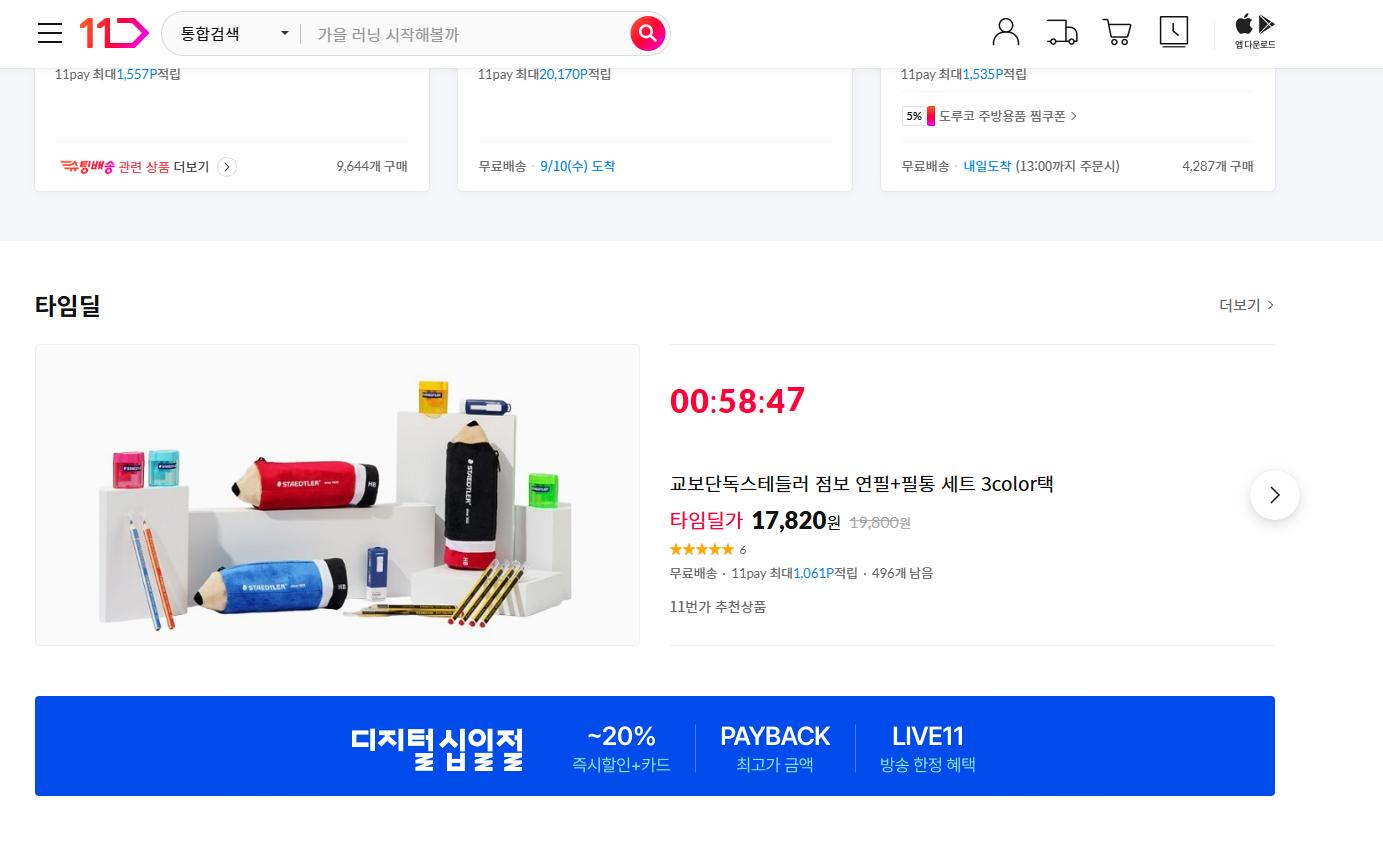button: (34, 10, 153, 56), (1220, 9, 1285, 49), (1154, 16, 1206, 59), (1100, 15, 1136, 51), (989, 15, 1024, 51), (1210, 295, 1270, 314), (1045, 16, 1084, 45), (1264, 479, 1295, 513)
checkbox: (176, 18, 290, 44)
input_field: (305, 14, 669, 51)
popup: (36, 694, 1276, 794)
